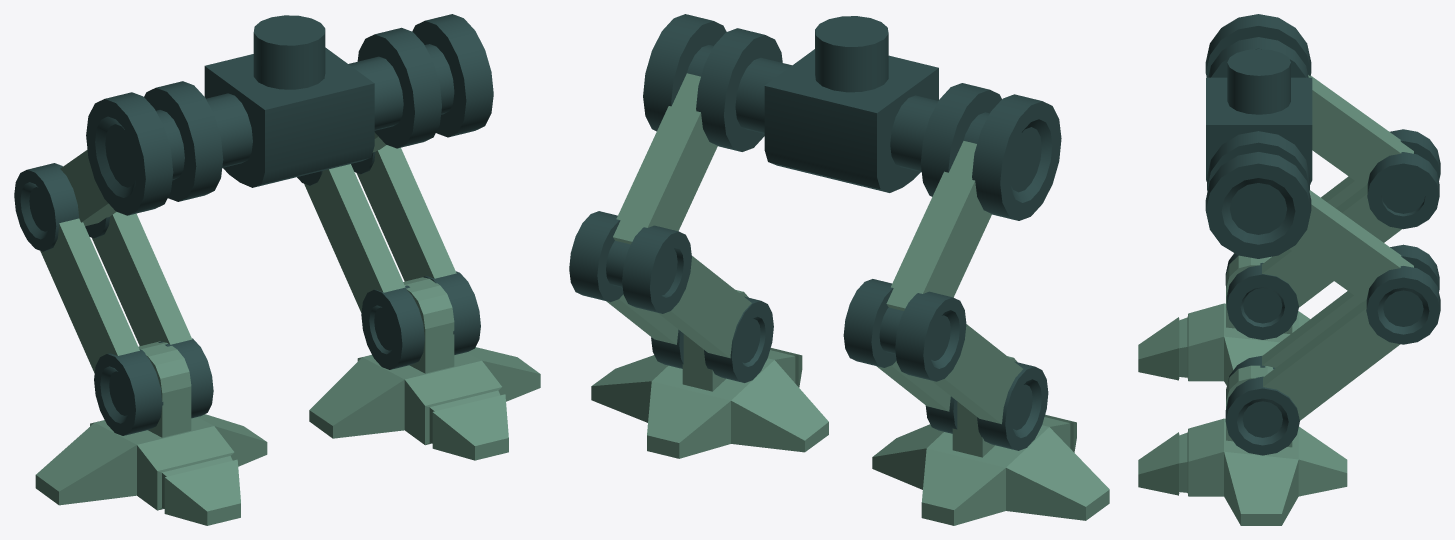
The model's file is EMCuerpo.obj.
The picture shows the model from 3 angles, left to right: view 1: azimuth 30°, elevation 25°; view 2: azimuth 150°, elevation 25°; view 3: azimuth 270°, elevation 25°; orthographic projection. The views are drawn at different scales.
Visible parts, largest first — view 1: Cube.033, Cylinder.019, Cube.029, Cube.032, Cube.031, Cylinder.022, Plane.015, Cylinder.021, Cylinder.020, Cube.030; view 2: Cube.033, Cylinder.019, Cylinder.020, Cube.030, Cube.029, Cylinder.022, Cube.031, Cube.032, Cylinder.021, Plane.015; view 3: Cube.033, Cylinder.019, Cube.030, Cylinder.020, Cylinder.022, Cube.032, Cube.031, Cube.029, Cylinder.021, Plane.015.
Boxes of the visible parts, bbox=[...] form: Cube.033: bbox=[35, 347, 540, 525]; Cylinder.019: bbox=[86, 14, 493, 215]; Cube.029: bbox=[204, 47, 374, 187]; Cube.032: bbox=[40, 145, 456, 372]; Cube.031: bbox=[92, 164, 405, 345]; Cylinder.022: bbox=[94, 271, 480, 435]; Plane.015: bbox=[138, 277, 454, 437]; Cylinder.021: bbox=[253, 15, 325, 89]; Cylinder.020: bbox=[14, 152, 375, 251]; Cube.030: bbox=[60, 132, 386, 226]; Cube.033: bbox=[591, 348, 1109, 525]; Cylinder.019: bbox=[643, 14, 1061, 220]; Cylinder.020: bbox=[569, 211, 966, 381]; Cube.030: bbox=[613, 73, 991, 310]; Cube.029: bbox=[764, 49, 938, 192]; Cylinder.022: bbox=[651, 296, 1048, 450]; Cube.031: bbox=[657, 256, 950, 411]; Cube.032: bbox=[606, 294, 1022, 424]; Cylinder.021: bbox=[815, 16, 888, 92]; Plane.015: bbox=[682, 290, 1017, 457]; Cube.033: bbox=[1138, 303, 1347, 525]; Cylinder.019: bbox=[1205, 14, 1311, 258]; Cube.030: bbox=[1290, 75, 1413, 301]; Cylinder.020: bbox=[1366, 129, 1440, 344]; Cylinder.022: bbox=[1225, 253, 1299, 455]; Cube.032: bbox=[1263, 176, 1400, 420]; Cube.031: bbox=[1262, 184, 1401, 367]; Cube.029: bbox=[1206, 77, 1312, 184]; Cylinder.021: bbox=[1227, 49, 1290, 114]; Plane.015: bbox=[1226, 255, 1292, 447].
Size of the model in its own units: 8.23 by 6.67 by 5.07.
